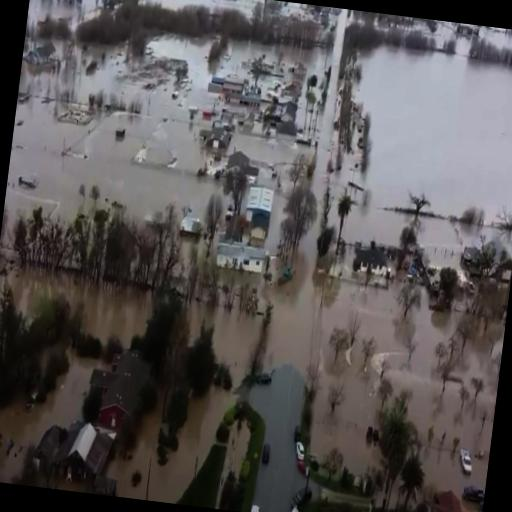flood: (258, 212, 508, 493), (4, 34, 224, 235), (357, 44, 512, 220), (107, 384, 230, 504), (0, 351, 97, 483), (0, 267, 152, 348), (232, 131, 312, 248), (191, 304, 262, 385), (312, 23, 343, 199), (418, 214, 512, 268), (218, 40, 326, 81), (342, 189, 415, 246), (296, 46, 325, 132), (413, 18, 472, 53), (146, 0, 258, 16), (329, 161, 352, 235), (257, 73, 288, 98), (480, 26, 512, 46)
house: (34, 416, 122, 496), (82, 338, 154, 432), (457, 233, 512, 289), (210, 238, 274, 278), (346, 238, 396, 284), (242, 184, 276, 234), (421, 489, 484, 512), (218, 72, 248, 106), (202, 125, 230, 153), (277, 101, 297, 125), (240, 90, 260, 106)
